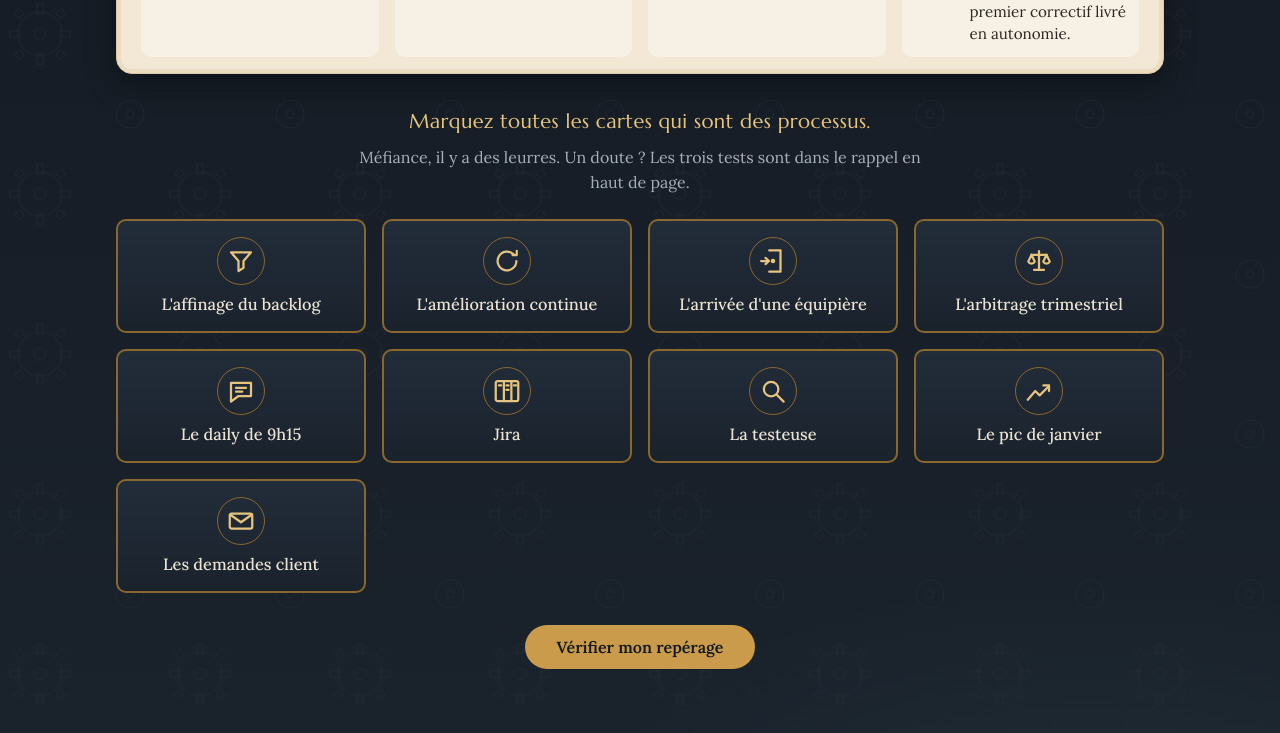
Test: SpottingBoard › donne le succès et la maîtrise quand la sélection est le corrigé
The width and height of the screenshot is (1280, 733).
(page scrolled)
What coordinates should you click on to do the following:
click the button "Les demandes client"
I would click on:
 (241, 536)
Its box is [116, 479, 366, 593].
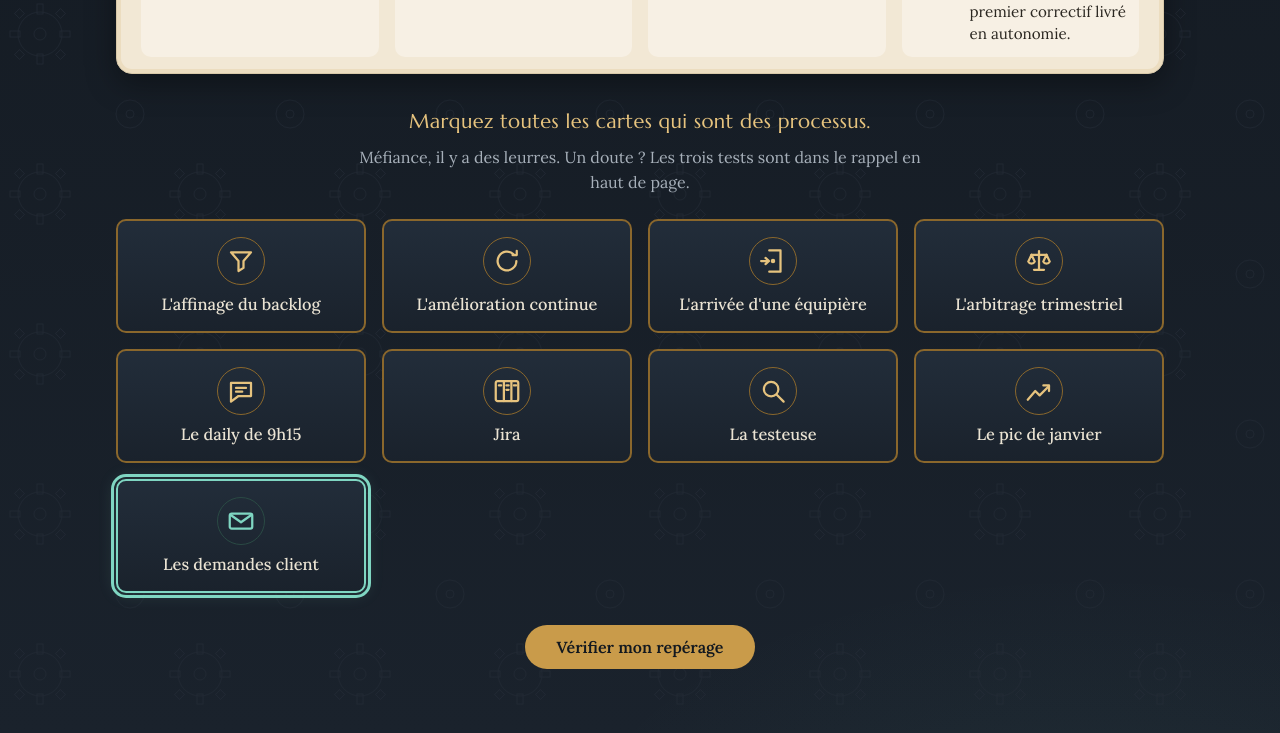
What coordinates should you click on to do the following:
click the button "L'affinage du backlog"
I would click on:
 (241, 276)
Its box is [116, 219, 366, 333].
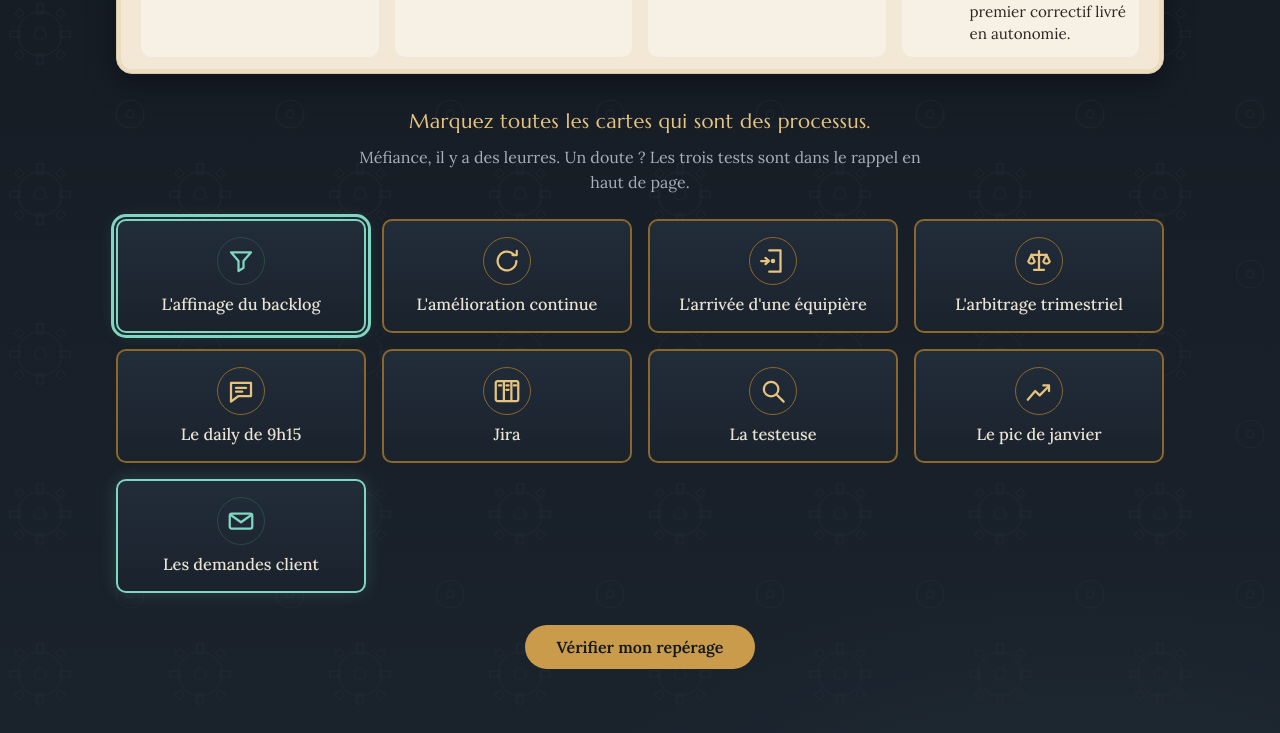
What coordinates should you click on to do the following:
click the button "L'amélioration continue"
I would click on:
 (507, 276)
Its box is [382, 219, 632, 333].
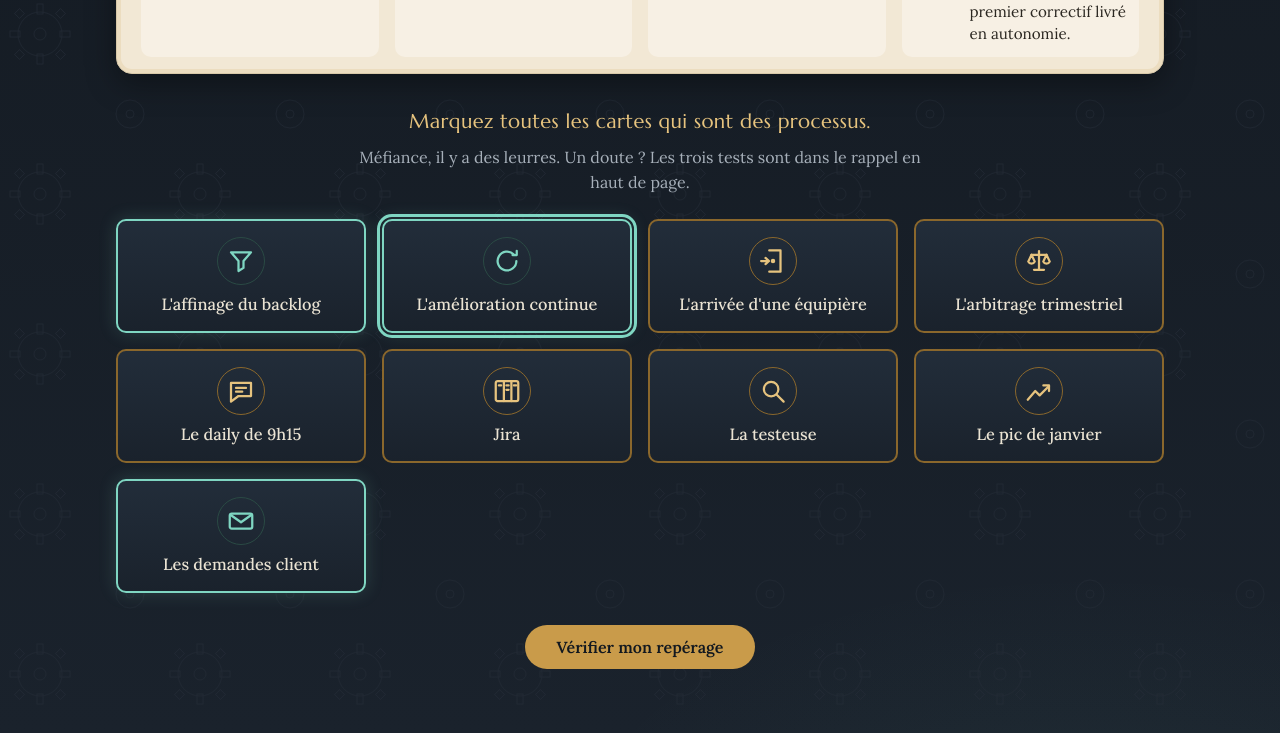
What coordinates should you click on to do the following:
click the button "L'arrivée d'une équipière"
I would click on:
 (773, 276)
Its box is [648, 219, 898, 333].
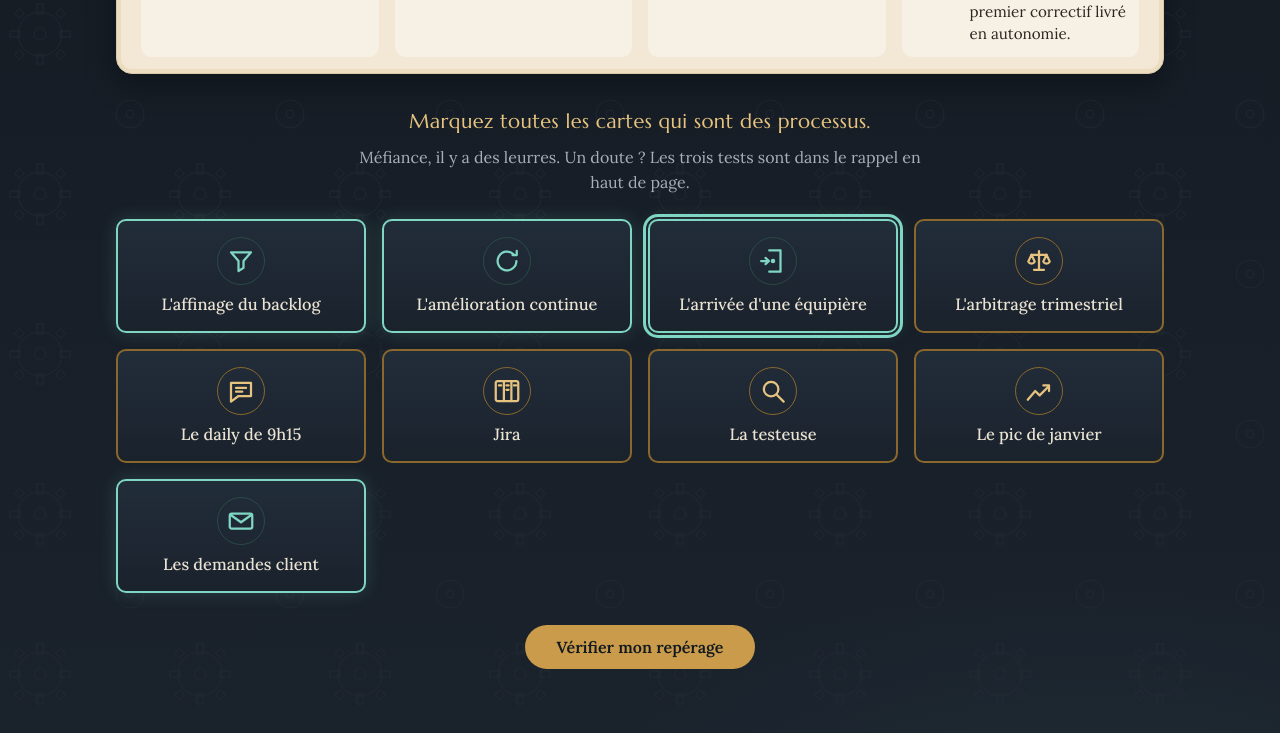
What coordinates should you click on to do the following:
click the button "L'arbitrage trimestriel"
I would click on:
 (1039, 276)
Its box is [914, 219, 1164, 333].
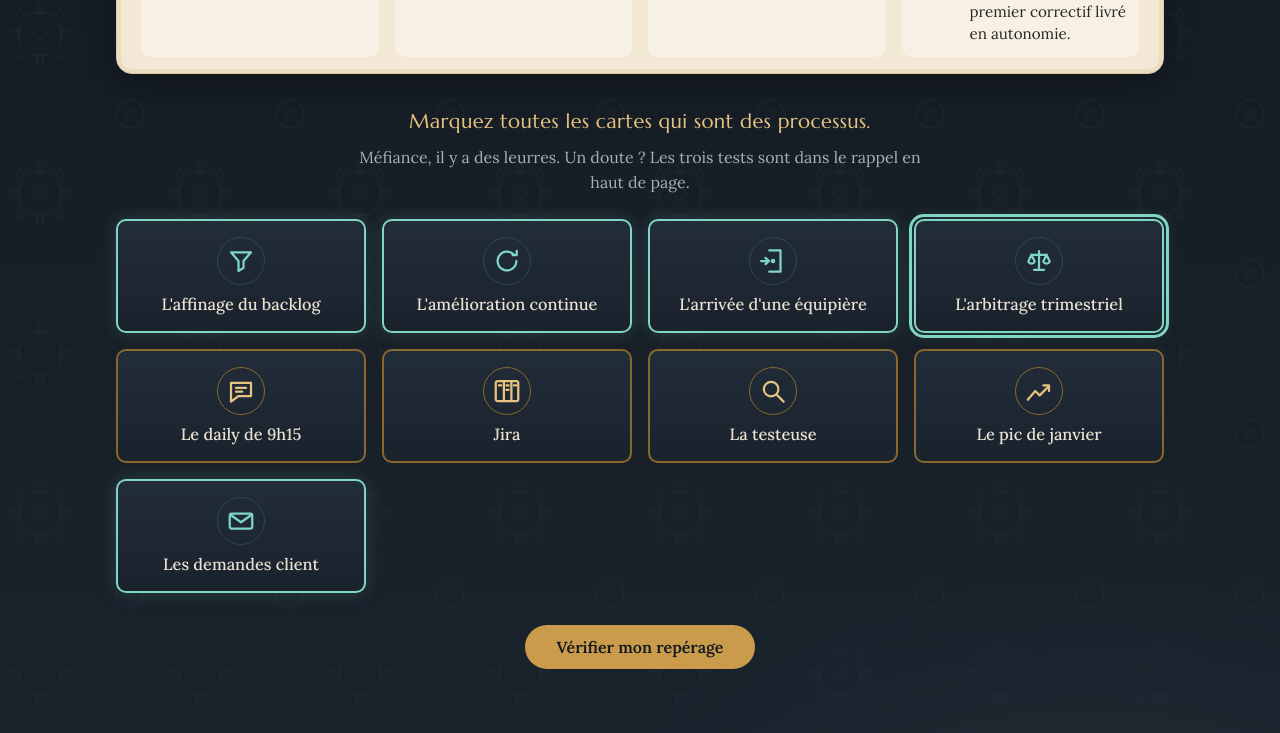
What coordinates should you click on to do the following:
click the button "Vérifier mon repérage"
I would click on:
 (640, 647)
Its box is [524, 625, 756, 669].
(page scrolled)
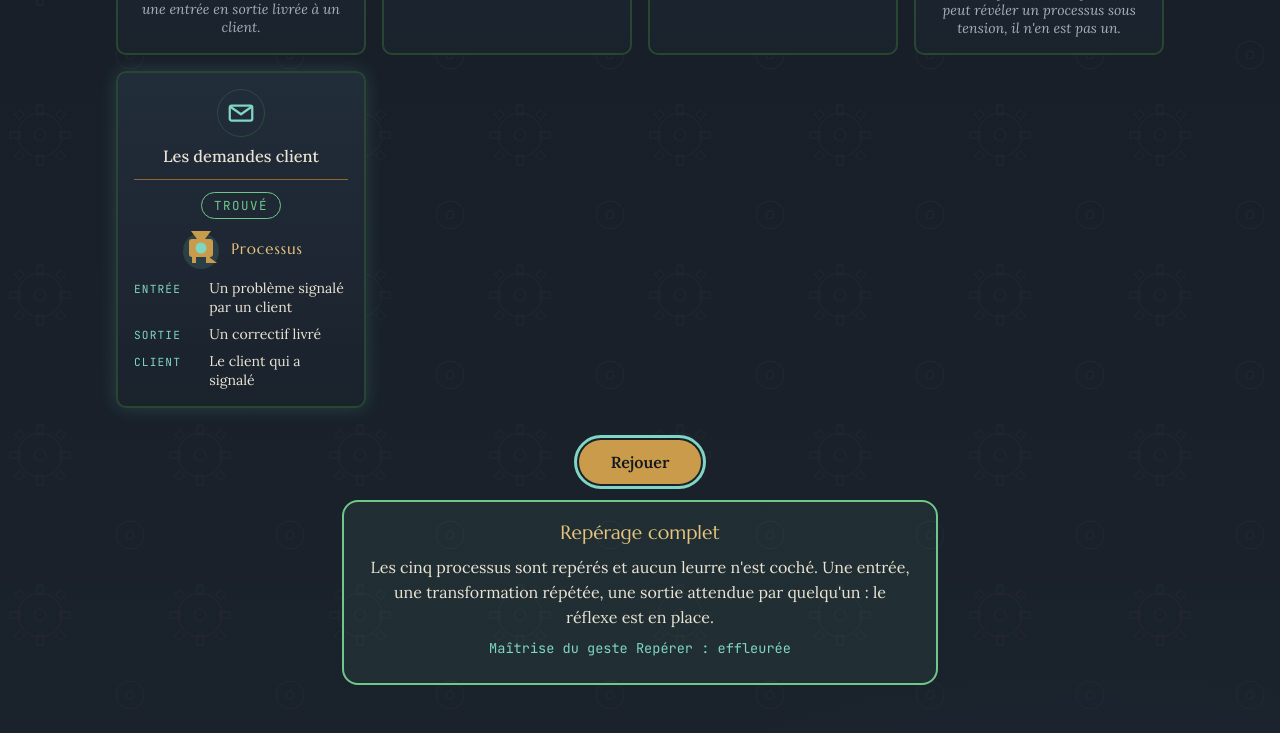
Expected: the text "Les cinq processus sont repérés et aucun leurre n'est coché. Une entrée, une transformation répétée, une sortie attendue" is shown, [371, 557, 910, 627]
Expected: the text "Maîtrise du geste Repérer : effleurée" is shown, [489, 639, 791, 657]
Expected: the button "Rejouer" is shown, [579, 440, 701, 484]
